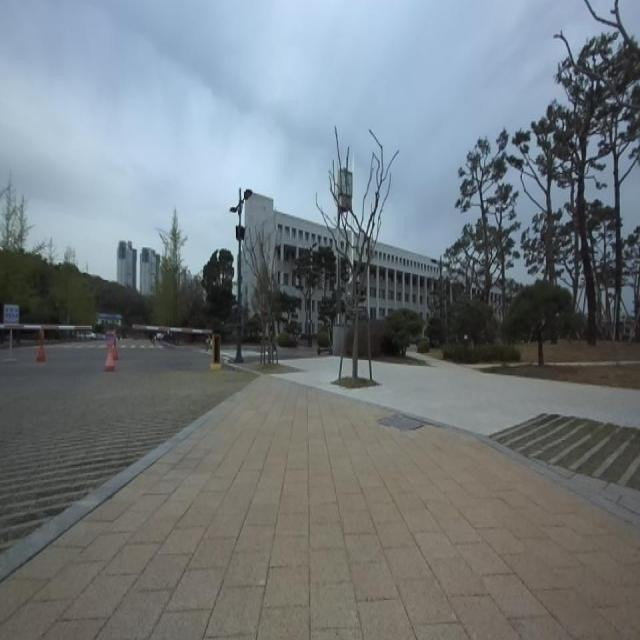sidewalk: (0, 375, 640, 639), (278, 356, 640, 435)
